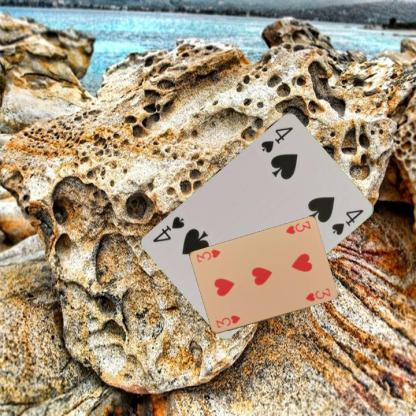3h: (213, 312, 242, 330), (283, 218, 312, 236)
4s: (258, 124, 294, 154)
